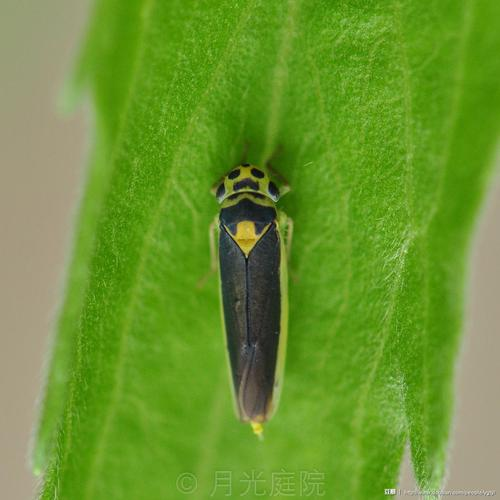Cicadellidae: (211, 165, 295, 425)
